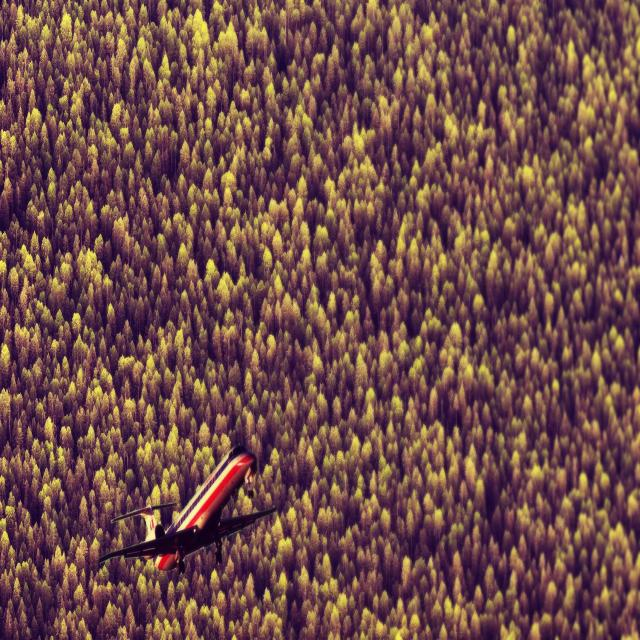airplane: (98, 443, 277, 576)
